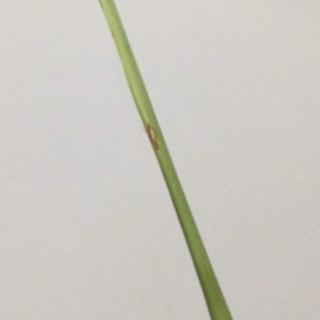Blast: (137, 99, 180, 177)
